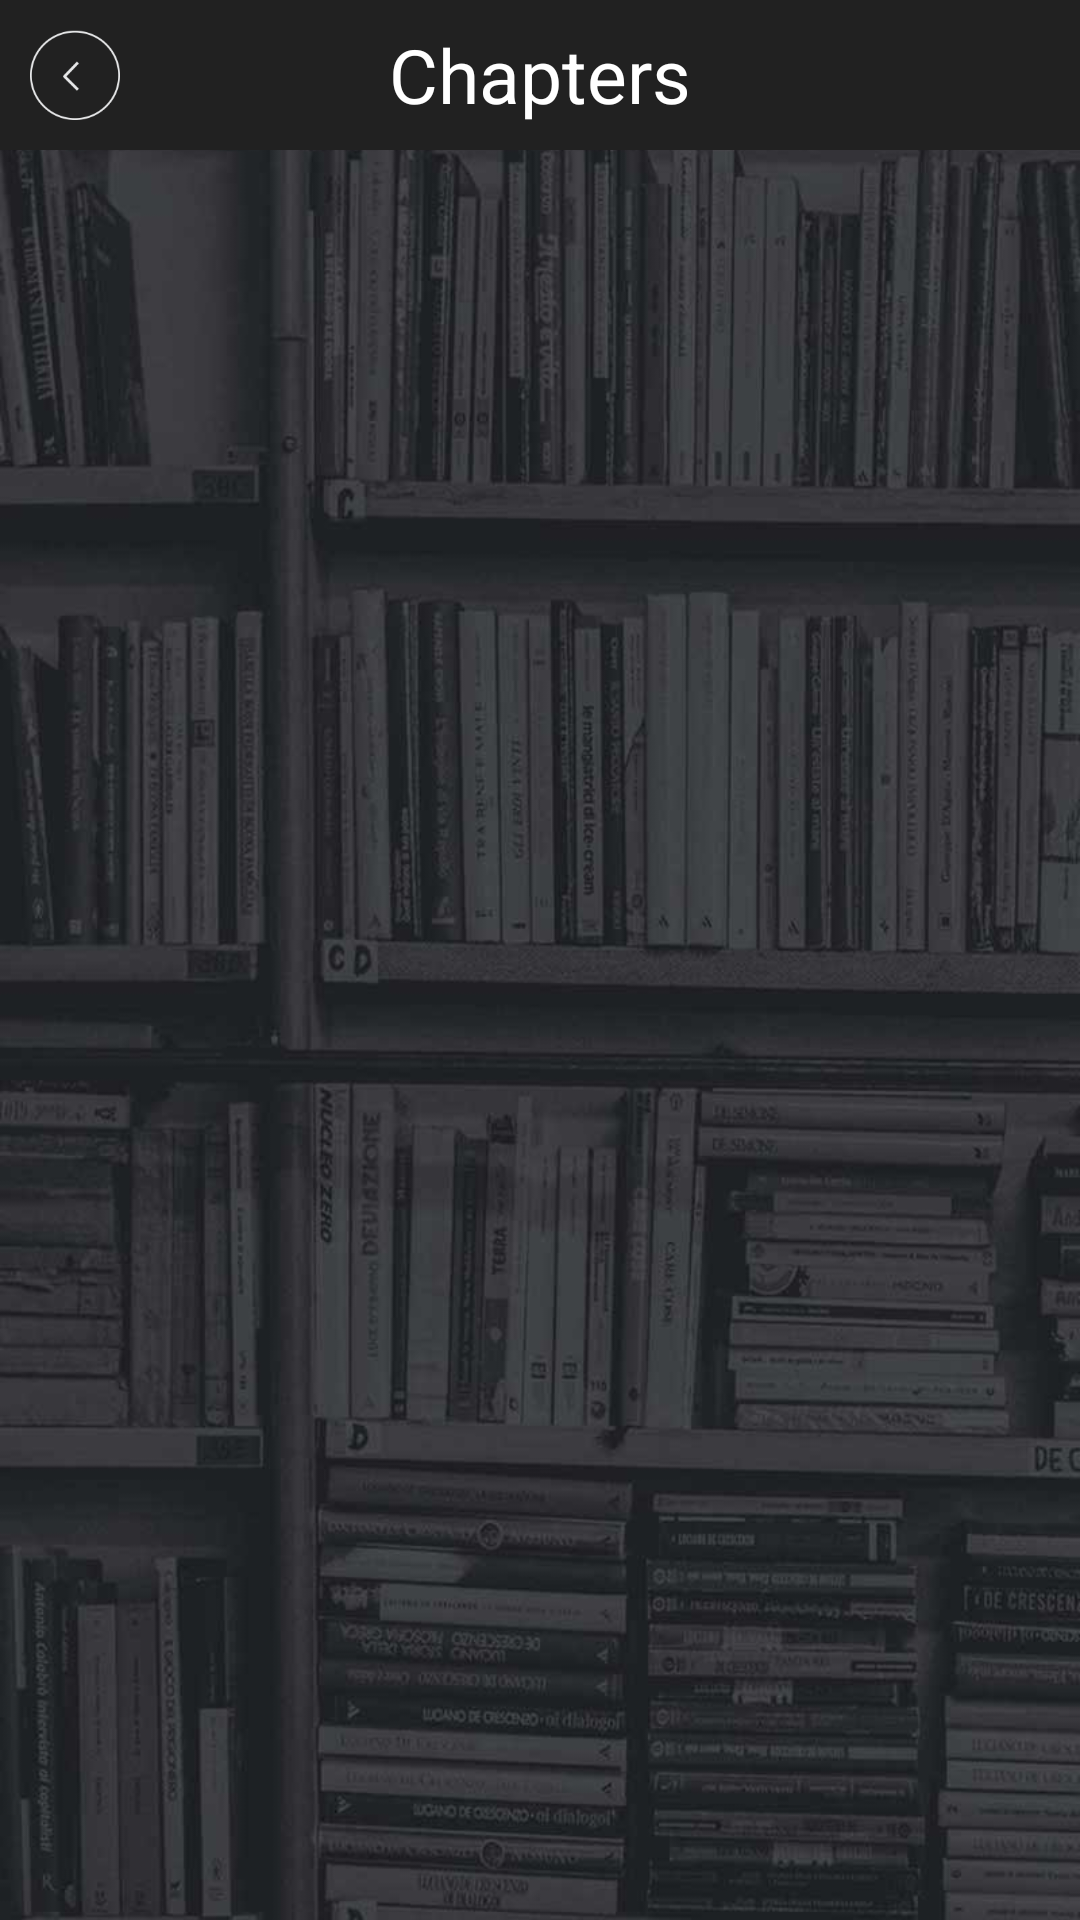

Screen size 1080*1920. Icon name, then its box in pixels as (x1, y1, x2, y2):
back: (30, 30, 120, 120)
